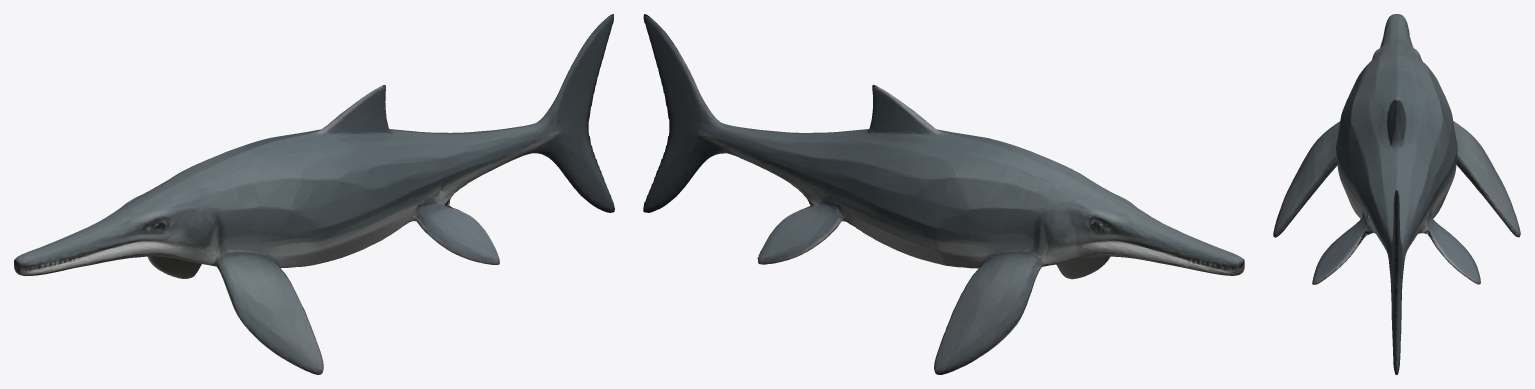
The picture shows the model from 3 angles, left to right: view 1: azimuth 30°, elevation 25°; view 2: azimuth 150°, elevation 25°; view 3: azimuth 270°, elevation 25°; orthographic projection. The views are drawn at different scales.
Visible parts, largest first — view 1: world; view 2: world; view 3: world.
Boxes of the visible parts, <box> form: world: <box>14,14,614,374</box>; world: <box>643,14,1244,374</box>; world: <box>1273,14,1520,374</box>.
Size of the model in its own units: 1 by 0.3593 by 0.3855.
1 material, 1 textured.
